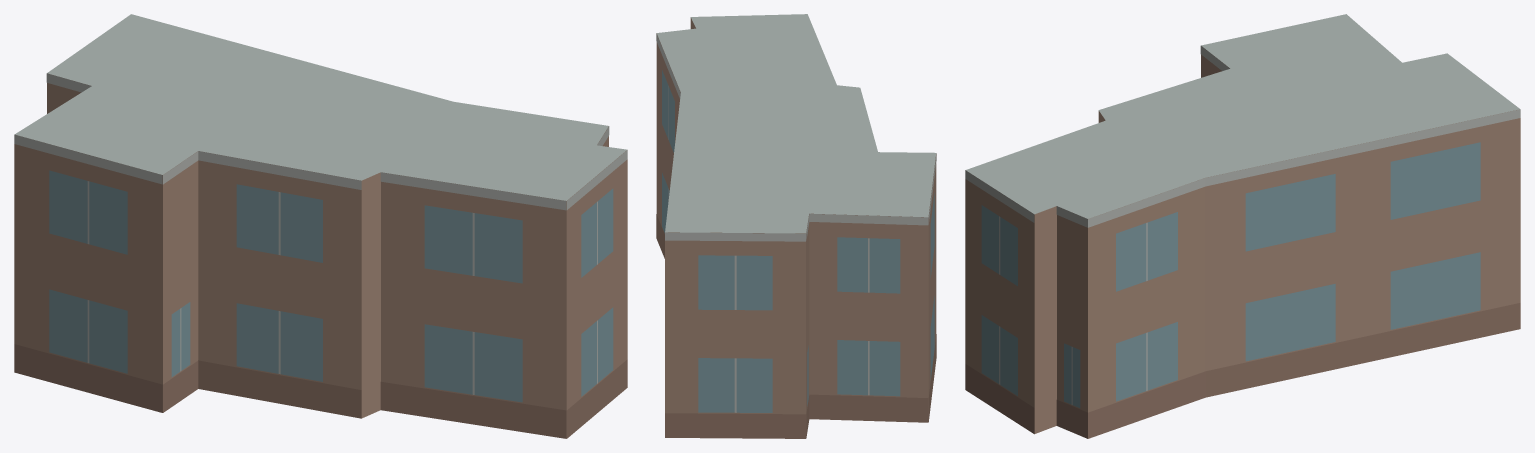
Rendered from survey-upis-32673071.glb.
3 renders of one model, left to right at view 1: azimuth 30°, elevation 25°; view 2: azimuth 150°, elevation 25°; view 3: azimuth 270°, elevation 25°, orthographic. The views are drawn at different scales.
Visible parts, largest first — view 1: survey-upis-32673071.tmp; view 2: survey-upis-32673071.tmp; view 3: survey-upis-32673071.tmp.
Part boxes in pixels (box(x1,y1,x2,y2)): survey-upis-32673071.tmp: box(14, 14, 627, 438); survey-upis-32673071.tmp: box(656, 14, 936, 438); survey-upis-32673071.tmp: box(965, 14, 1520, 438).
Size of the model in its own units: 12.21 by 6.1 by 13.97.
